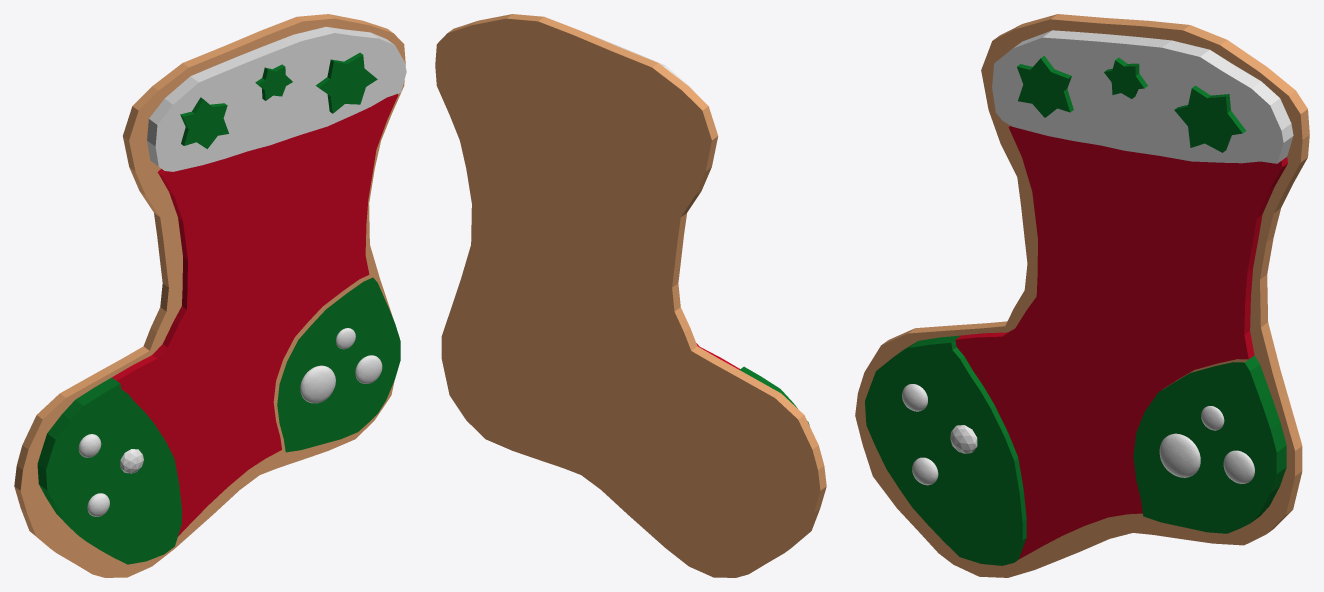
Rendered from Shoe.glb.
3 renders of one model, left to right at view 1: azimuth 30°, elevation 25°; view 2: azimuth 150°, elevation 25°; view 3: azimuth 330°, elevation 25°, orthographic. The views are drawn at different scales.
Parts seen in each view (by area): view 1: Shoe; view 2: Shoe; view 3: Shoe.
Boxes of the visible parts, bbox=[...] form: Shoe: bbox=[14, 14, 406, 577]; Shoe: bbox=[435, 14, 826, 577]; Shoe: bbox=[855, 14, 1309, 577].
Bounding box in the file's own units: 0.1763 × 0.2245 × 0.015.
